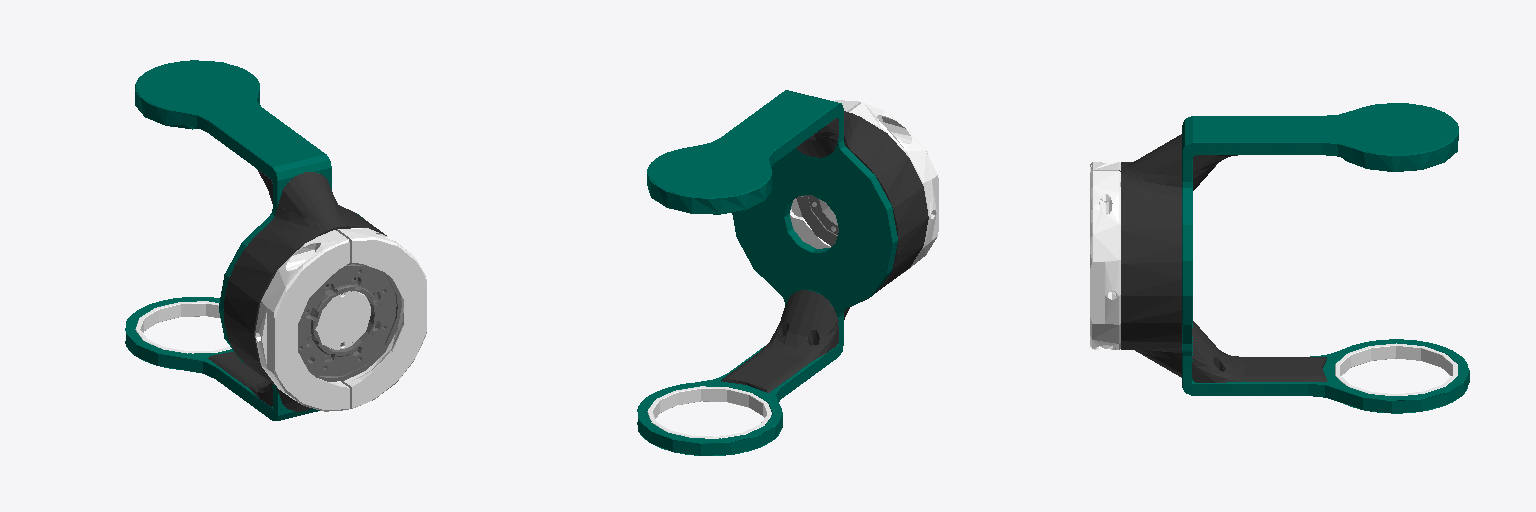
3 views of the same model, side by side, from view 1: azimuth 30°, elevation 25°; view 2: azimuth 150°, elevation 25°; view 3: azimuth 270°, elevation 25° (orthographic).
Size of the model in its own units: 0.09 by 0.1341 by 0.1813.
Materials: 1 (1 with a texture image).